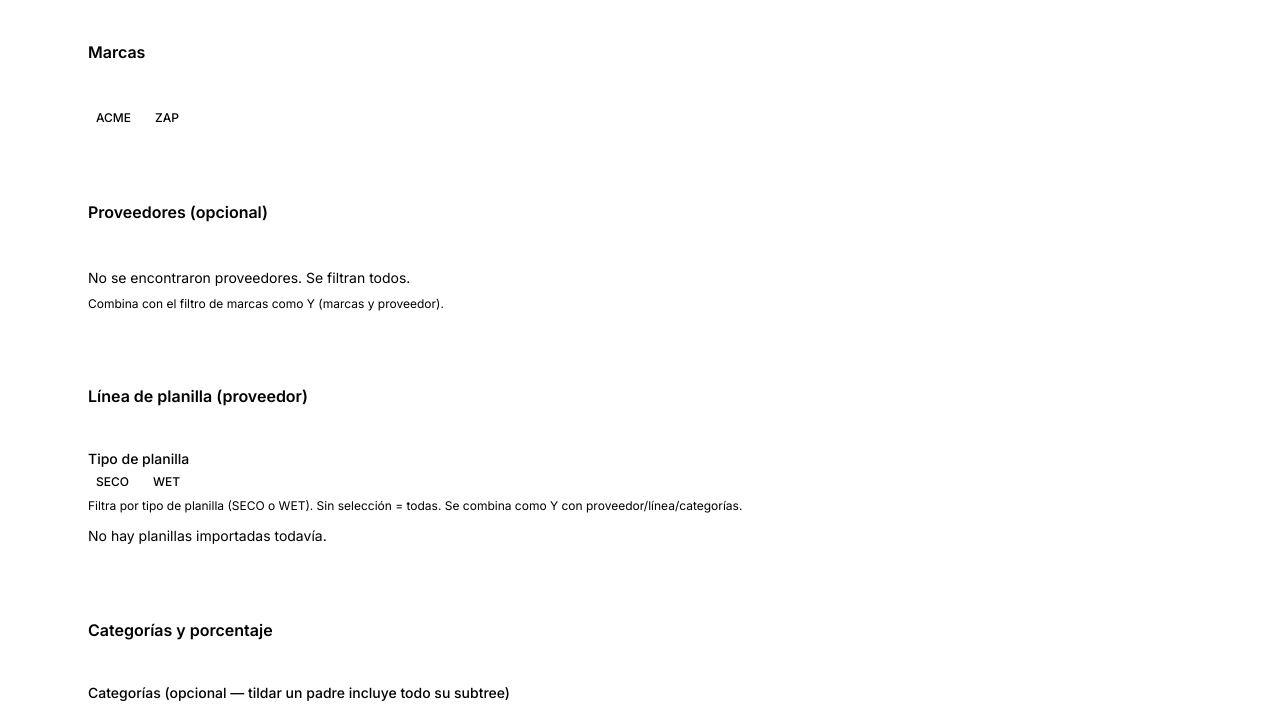
Test: BulkPriceUpdate — preview, exclusions and apply › shows every preview row checked by default
Click the text "Acme" at (114, 118), box [96,110,131,125]
(page scrolled)
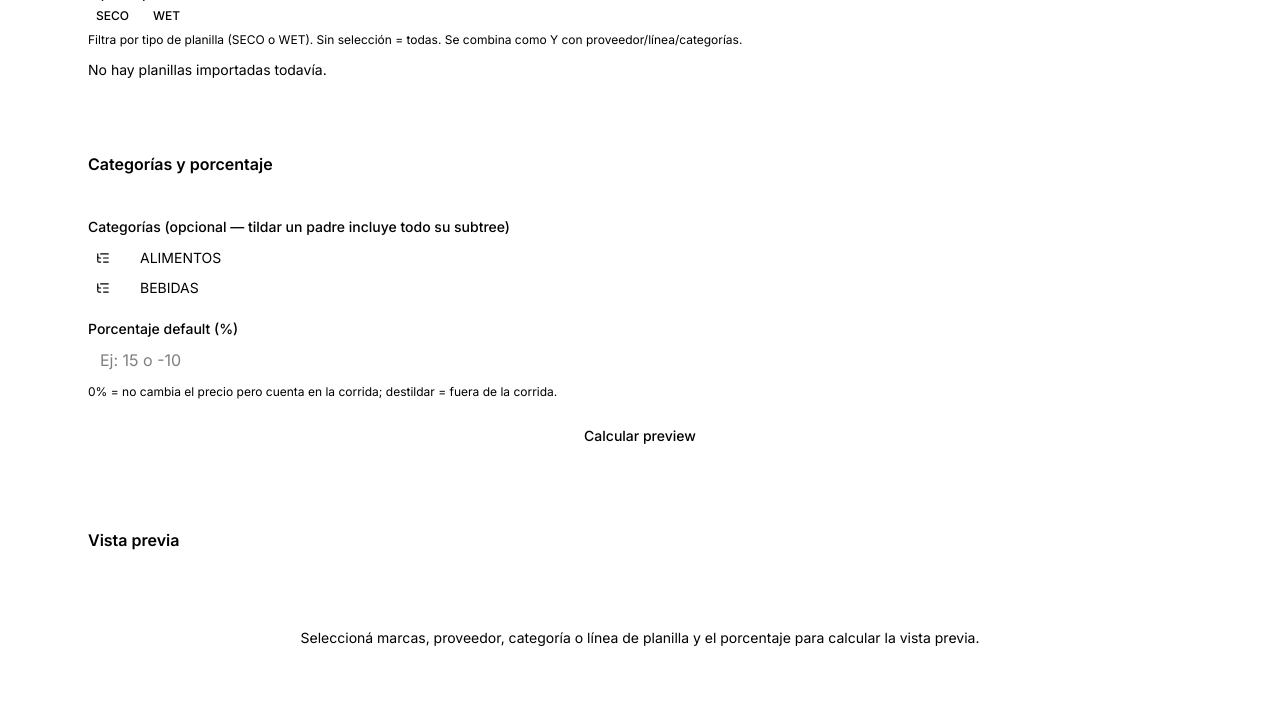
Type "10" into the number field labelled "Porcentaje default (%)" at (640, 360), box [88,342,1192,378]
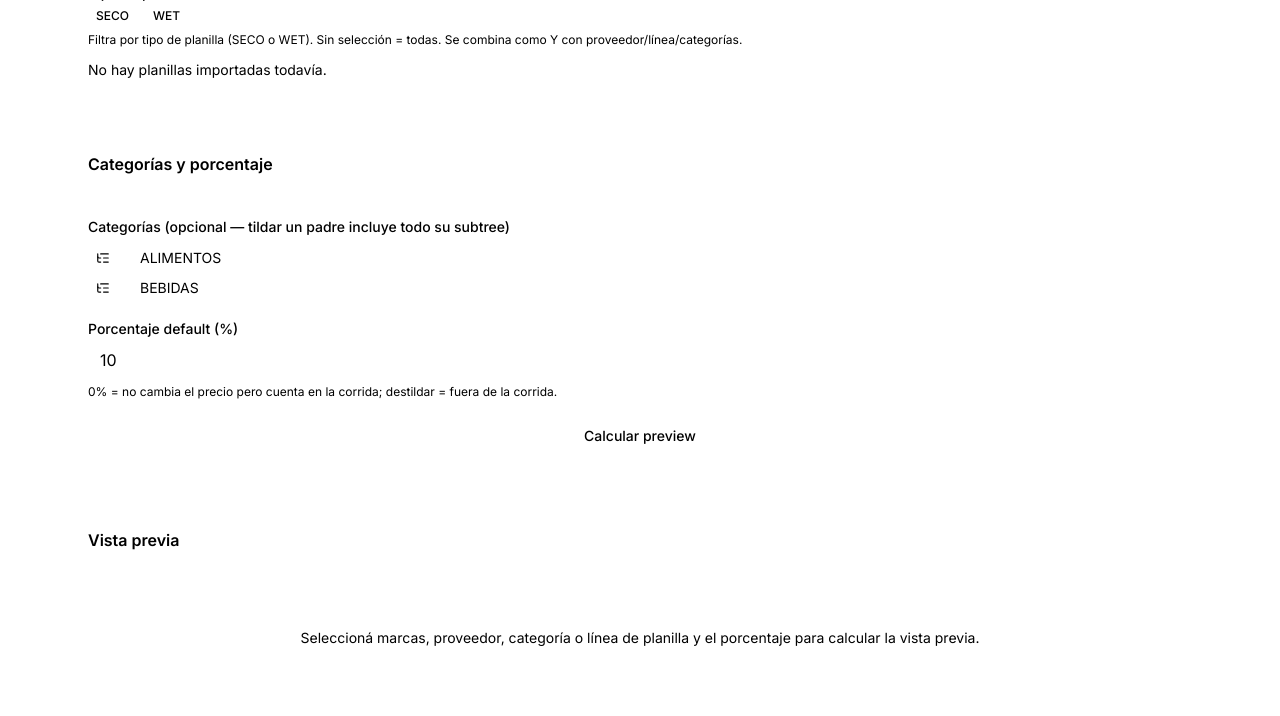
Click the button "Calcular preview" at (640, 436), box [88,416,1192,456]
(page scrolled)
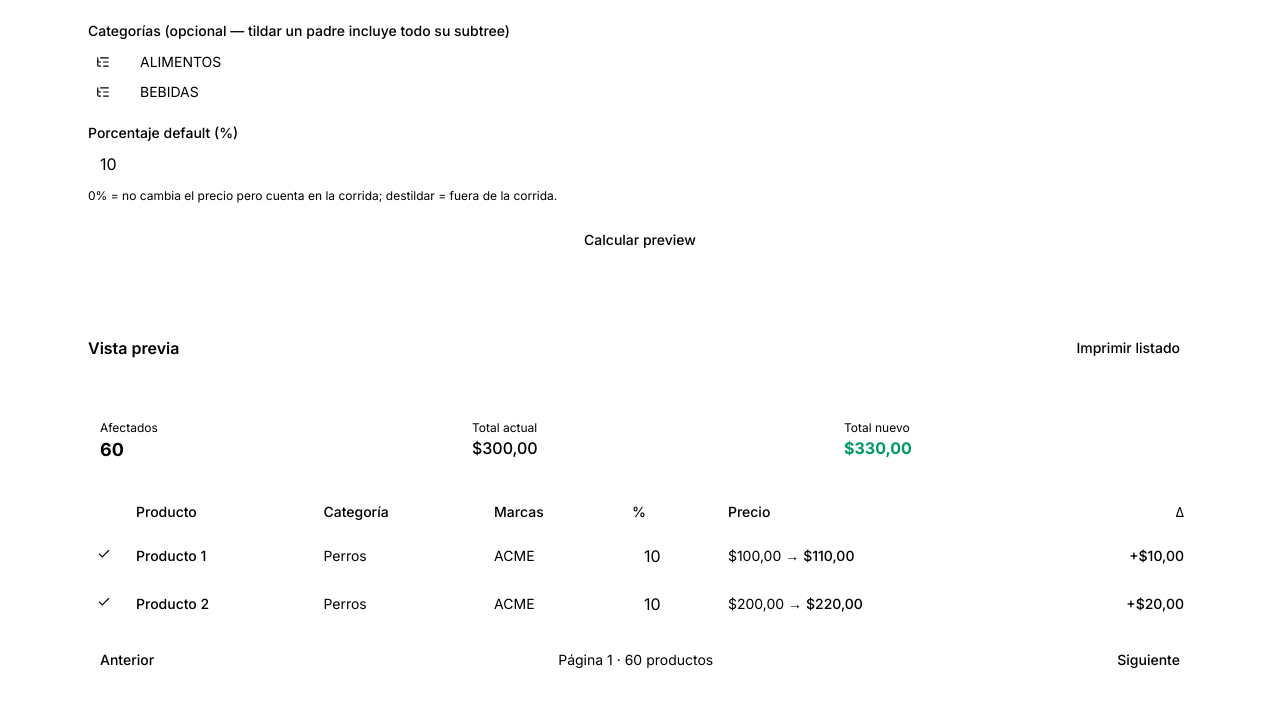
Check: the text "Producto 1" is shown, box [128,532,315,580]
Check: the number of checkboxes named "excluir" is 2, box [96,546,112,562]; [96,594,112,610]
